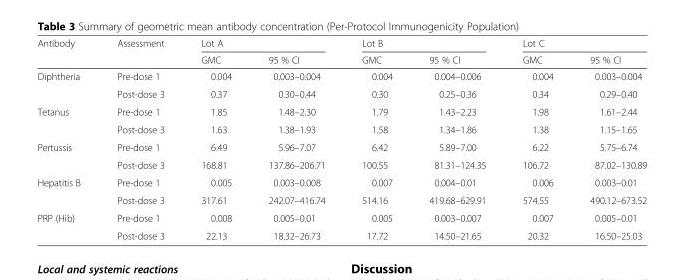table: (36, 37, 646, 240)
table column: (249, 37, 342, 240), (410, 37, 503, 240), (98, 37, 182, 240), (570, 37, 646, 240), (342, 37, 410, 240), (182, 37, 249, 240), (503, 37, 570, 240), (36, 37, 98, 240)
table column header: (36, 37, 646, 67)
table row: (36, 84, 646, 102), (36, 102, 646, 120), (36, 137, 646, 155), (36, 155, 646, 173), (36, 173, 646, 191), (36, 208, 646, 226), (36, 67, 646, 84), (36, 120, 646, 137), (36, 191, 646, 208), (36, 51, 646, 67), (36, 37, 646, 51), (36, 226, 646, 240)
table spanning cell: (98, 37, 182, 67), (342, 37, 503, 51), (182, 37, 342, 51), (36, 137, 98, 173), (36, 67, 98, 102), (36, 102, 98, 137), (36, 173, 98, 208), (503, 37, 646, 51), (36, 208, 98, 240), (36, 37, 98, 67)
